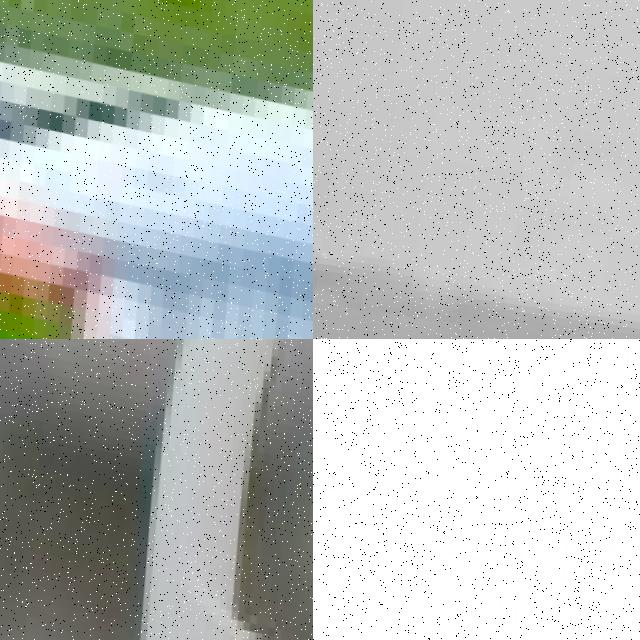0: (0, 339, 313, 640)
drone: (0, 0, 313, 339), (313, 339, 640, 640)
